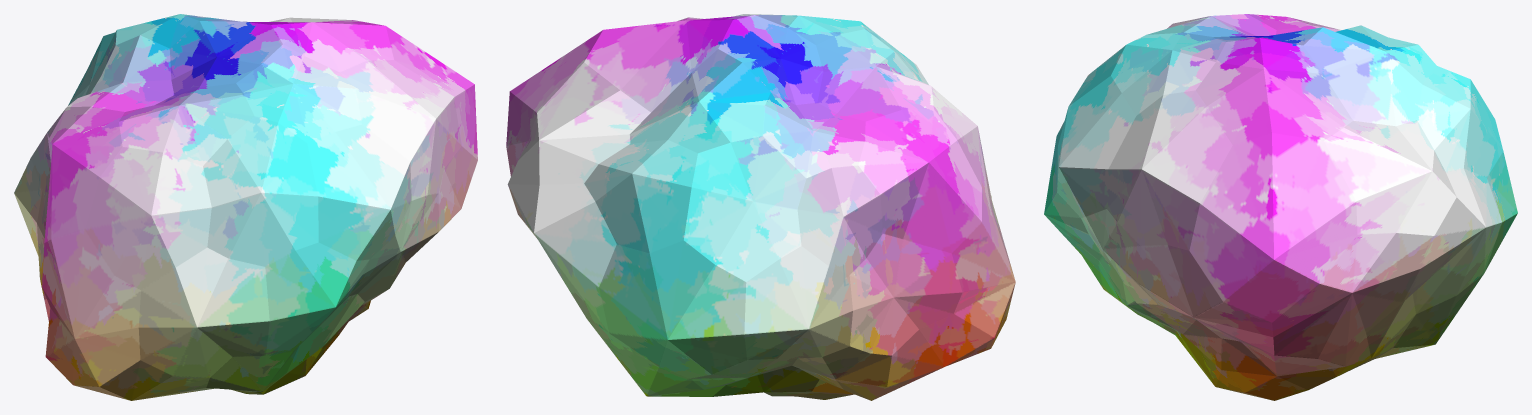
The model's file is RainbowRock3.glb.
3 views of the same model, side by side, from view 1: azimuth 30°, elevation 25°; view 2: azimuth 150°, elevation 25°; view 3: azimuth 270°, elevation 25° (orthographic). The views are drawn at different scales.
Visible parts, largest first — view 1: RainbowRock3; view 2: RainbowRock3; view 3: RainbowRock3.
Part boxes in pixels (<box>): RainbowRock3: <box>14,14,477,400</box>; RainbowRock3: <box>506,14,1015,400</box>; RainbowRock3: <box>1044,14,1517,400</box>.
Size of the model in its own units: 5.32 by 4.01 by 4.77.
1 material, 1 textured.
